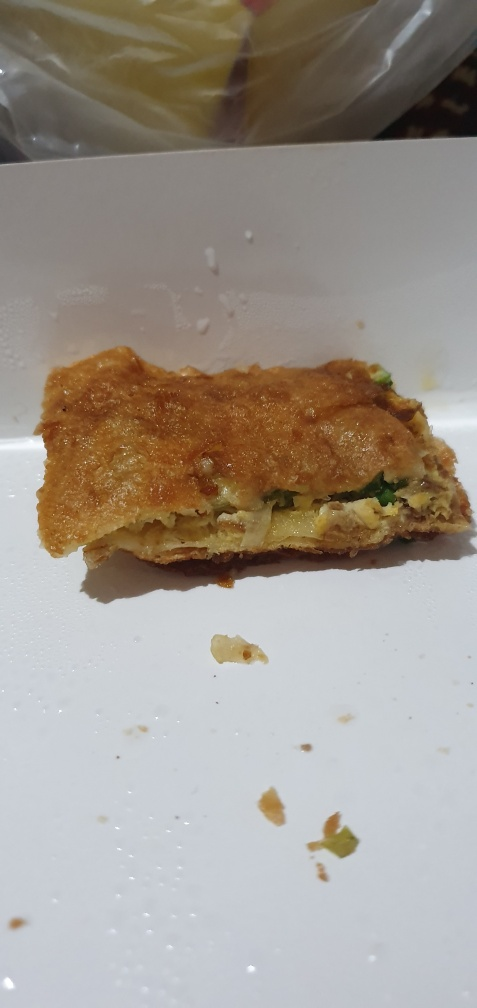martabak telor: (37, 353, 464, 561)
